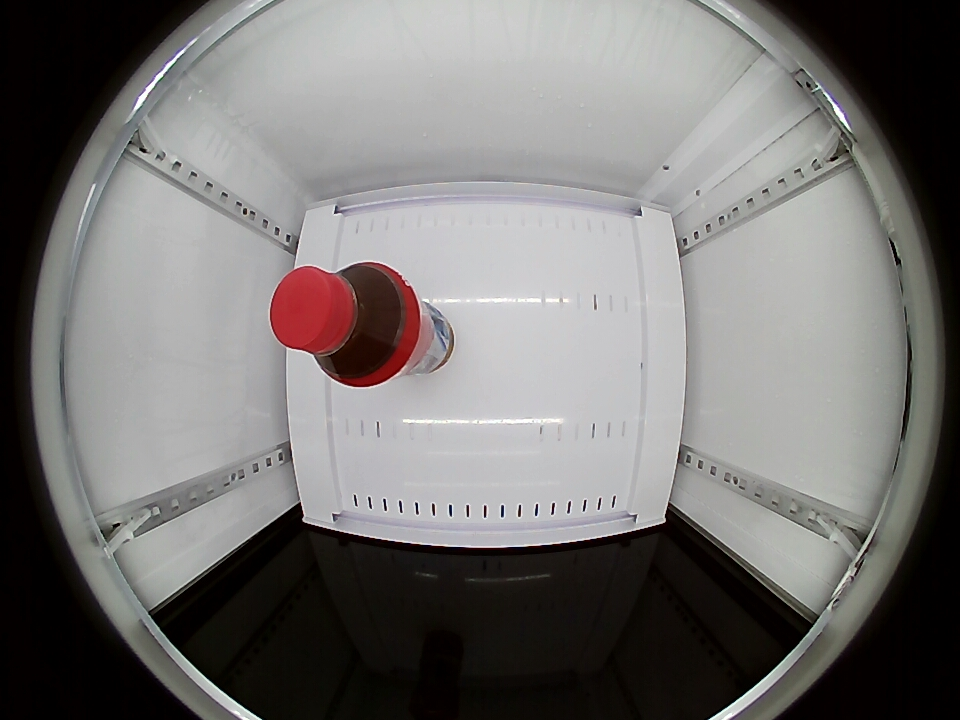binghongcha: (270, 260, 424, 388)
